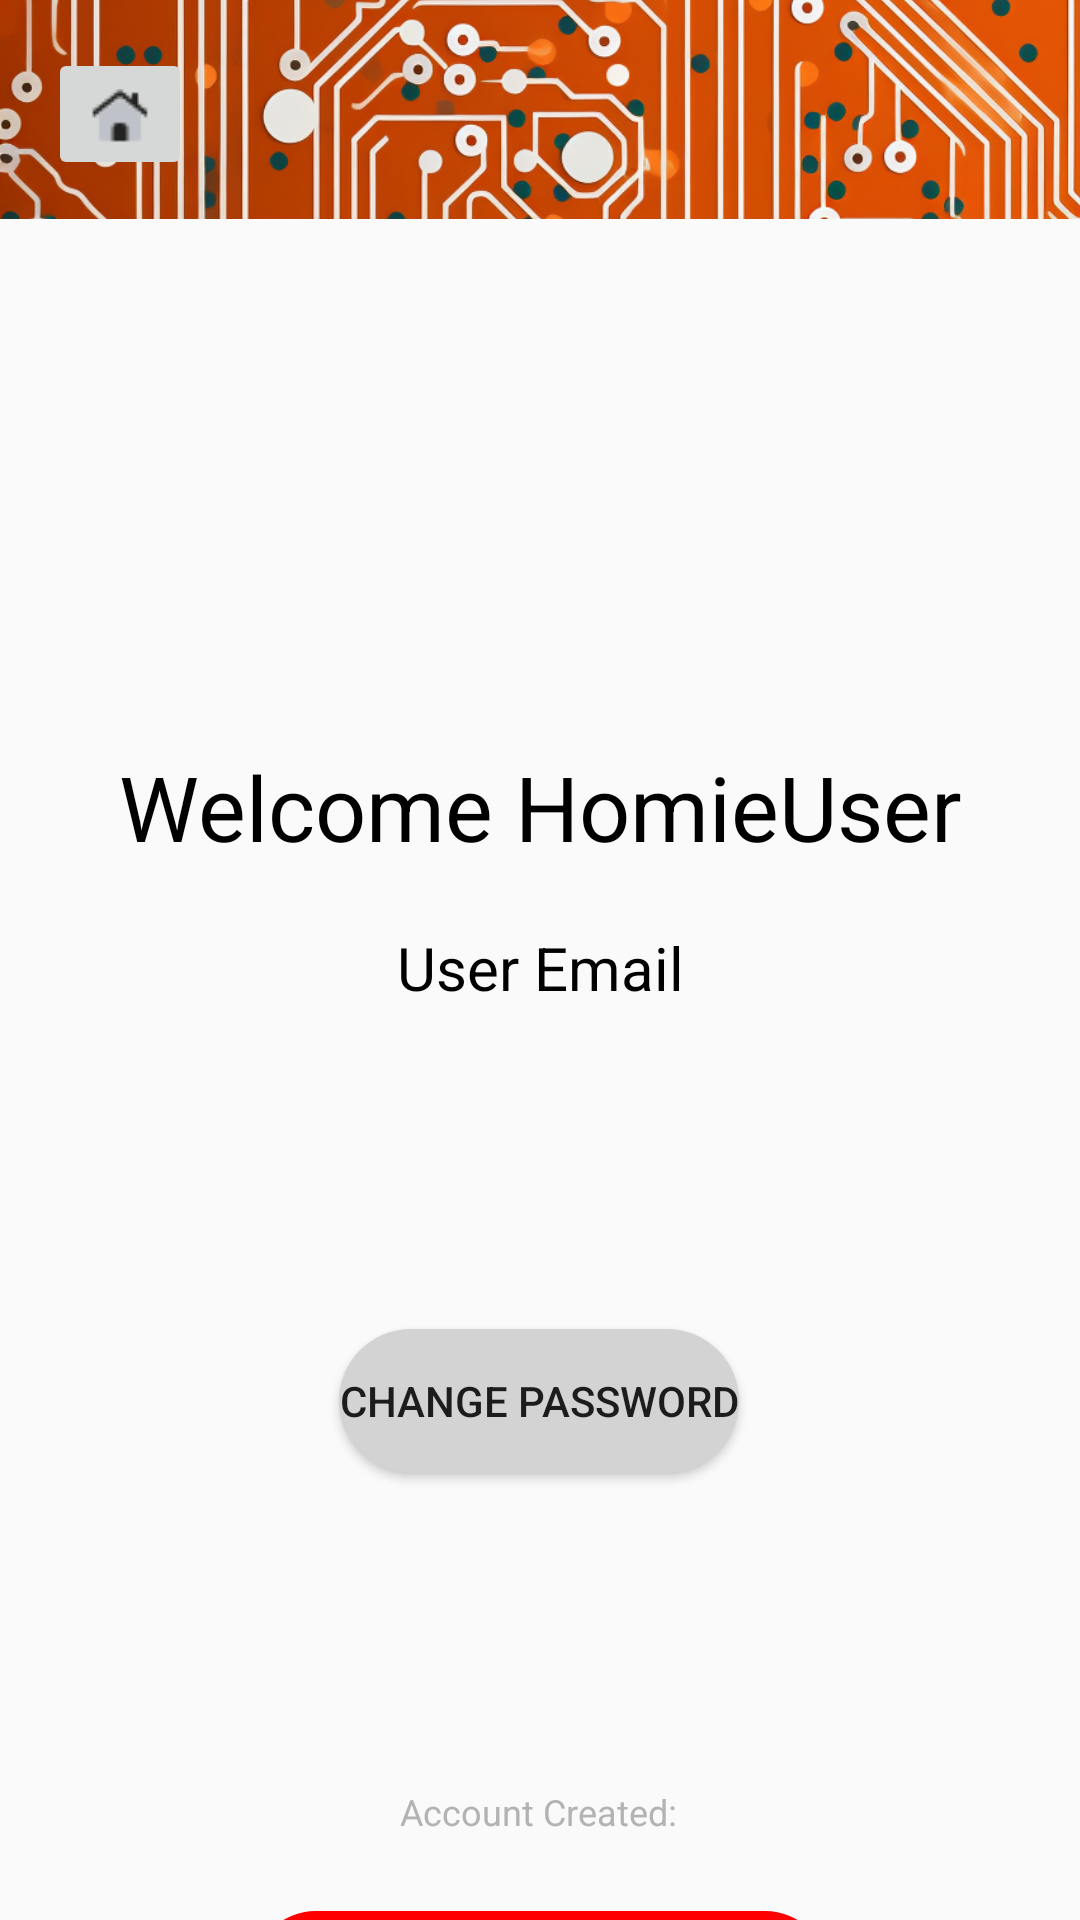

Screen size 1080w x 1920h. Icon name, then its center in pixels as (x=x, y=y):
home duotone: (x=116, y=114)
